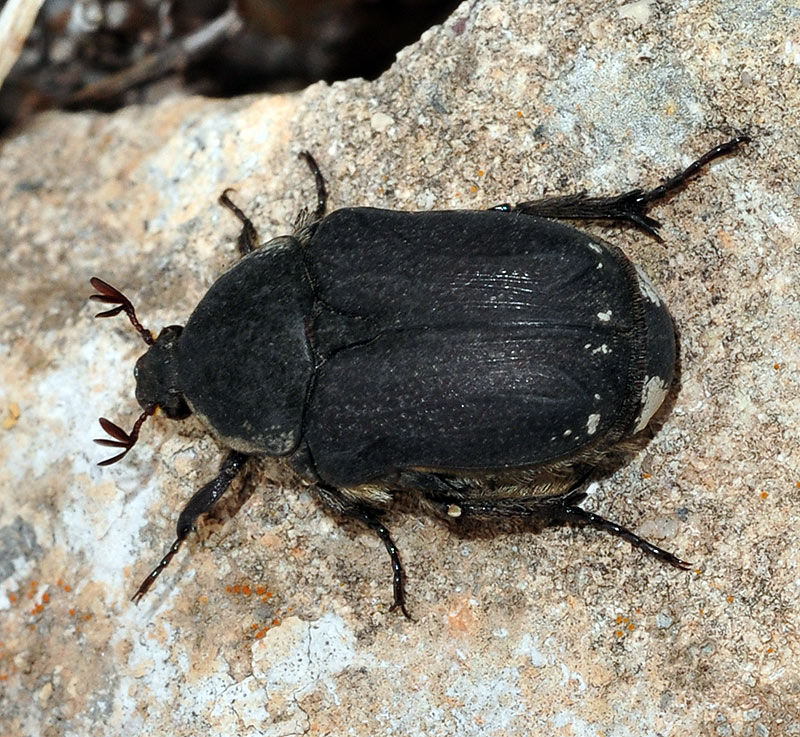Protaetia_oblonga: (69, 108, 764, 629)
